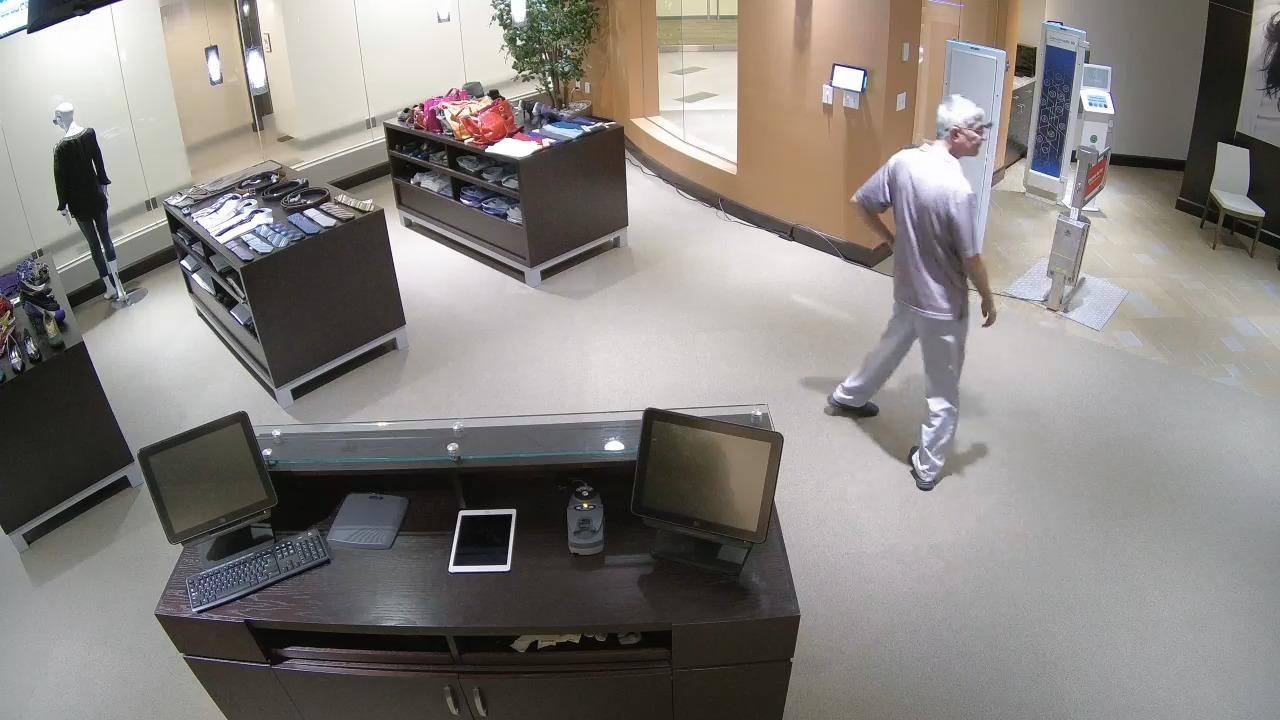normal: (821, 90, 1001, 490)
